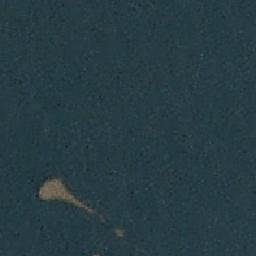debris: (35, 175, 108, 227), (114, 227, 126, 239)
